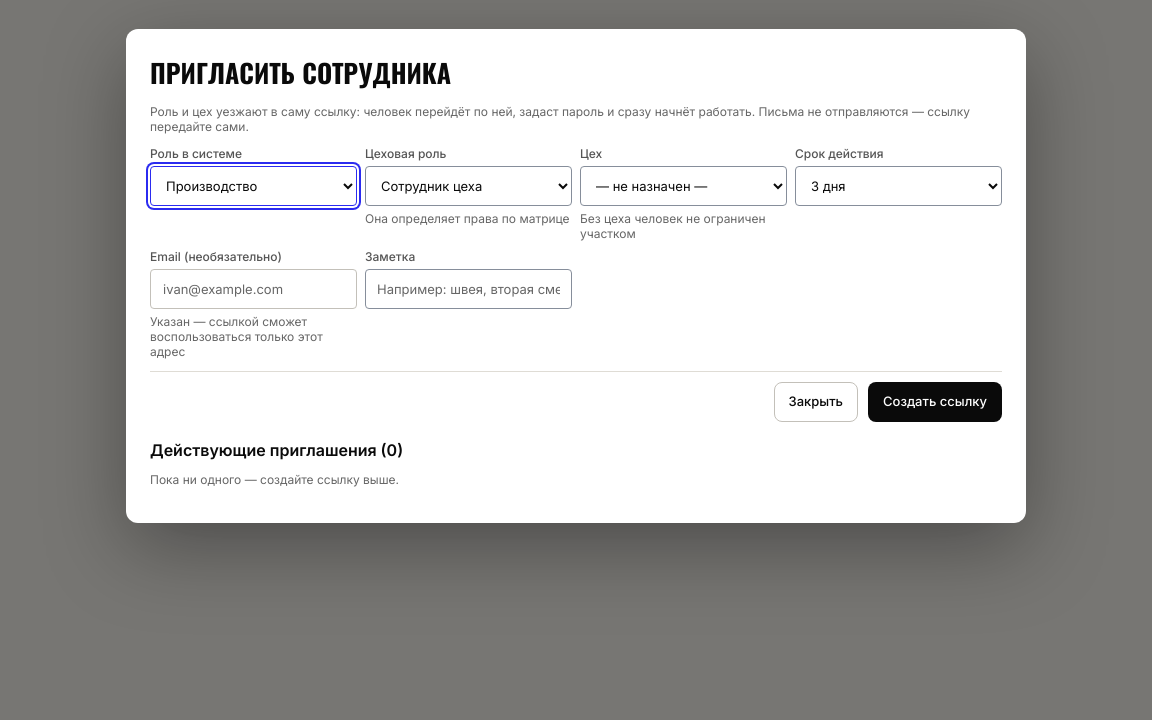
InviteModal — адрес уже заведён › предупреждает при вводе существующего адреса и называет, что он отключён
In the field labelled "Email (необязательно)": coordinates (254, 289) x1=150 y1=269 x2=357 y2=309, type "ZA@pnhd.ru"
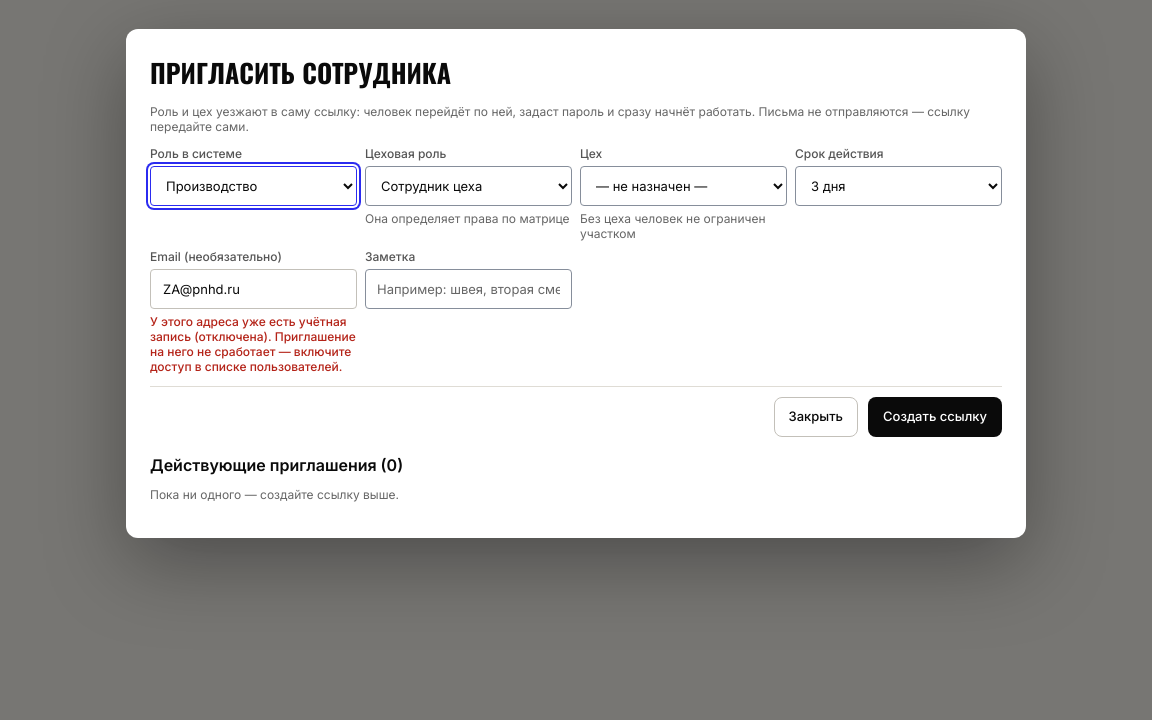
Check: the text "уже есть учётная запись (отключена)" is shown, box x1=150 y1=314 x2=356 y2=374
